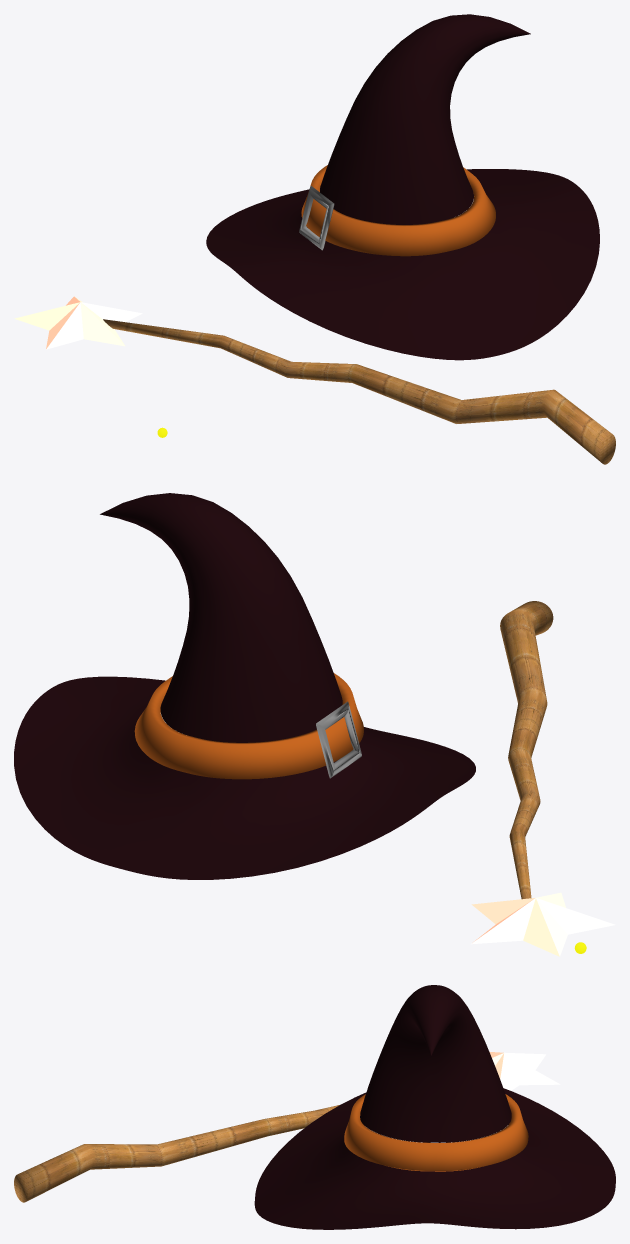
Rendered from D-04 Witchcraft.glb.
3 renders of one model, top to bottom at view 1: azimuth 30°, elevation 25°; view 2: azimuth 150°, elevation 25°; view 3: azimuth 270°, elevation 25°, orthographic. The views are drawn at different scales.
Visible parts, largest first — view 1: SurfCircle.003, Cylinder.001, SurfCircle.000, Star, Torus; view 2: SurfCircle.003, SurfCircle.000, Cylinder.001, Star, Torus; view 3: SurfCircle.003, Cylinder.001, SurfCircle.000, Star.
Boxes of the visible parts, x1=… form: SurfCircle.003: x1=206, y1=14, x2=599, y2=360; Cylinder.001: x1=103, y1=319, x2=615, y2=464; SurfCircle.000: x1=301, y1=165, x2=495, y2=256; Star: x1=14, y1=296, x2=142, y2=349; Torus: x1=299, y1=186, x2=334, y2=250; SurfCircle.003: x1=14, y1=493, x2=475, y2=879; SurfCircle.000: x1=134, y1=673, x2=363, y2=779; Cylinder.001: x1=500, y1=601, x2=553, y2=899; Star: x1=471, y1=892, x2=615, y2=956; Torus: x1=316, y1=701, x2=361, y2=778; SurfCircle.003: x1=254, y1=985, x2=615, y2=1229; Cylinder.001: x1=14, y1=1105, x2=339, y2=1202; SurfCircle.000: x1=344, y1=1094, x2=528, y2=1171; Star: x1=489, y1=1051, x2=560, y2=1090.
Size of the model in its own units: 2.97 by 1.83 by 3.34.
6 materials, 1 textured.
